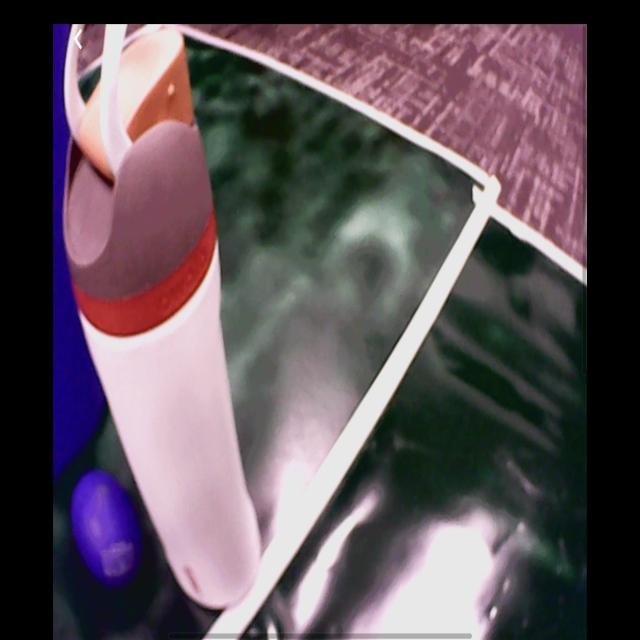ball: (69, 469, 143, 582)
